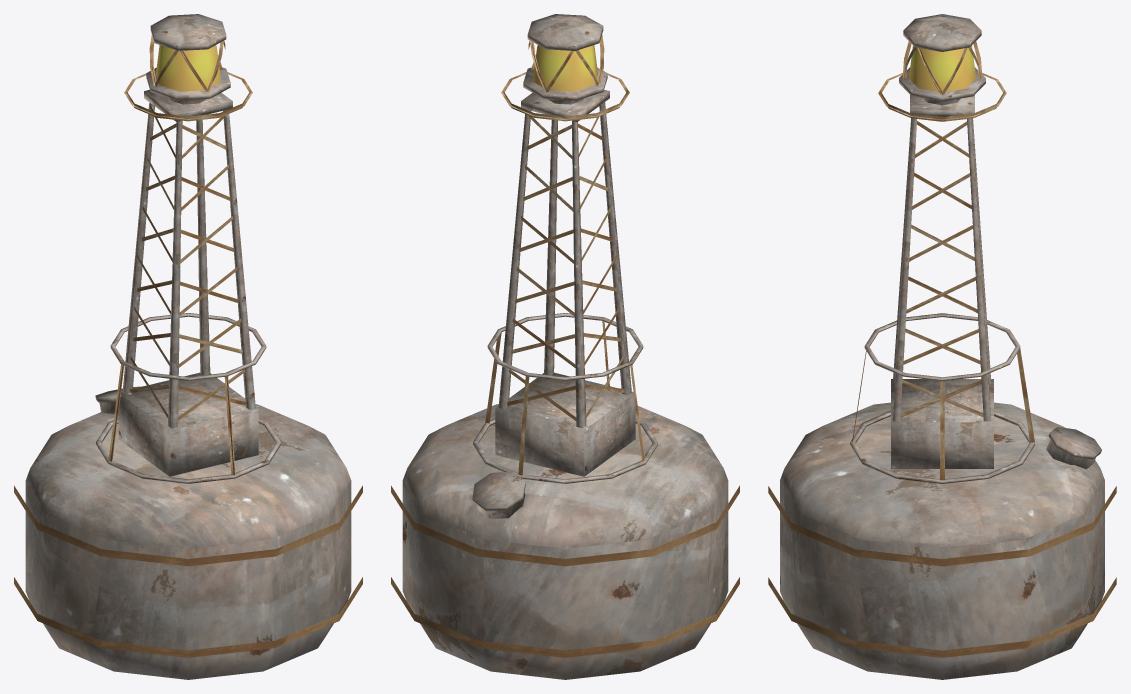
The model's file is buoy.glb.
3 renders of one model, left to right at view 1: azimuth 30°, elevation 25°; view 2: azimuth 150°, elevation 25°; view 3: azimuth 270°, elevation 25°, orthographic.
Visible parts, largest first — view 1: lighthouseRoof_diff.jpg__, metaldirt_diff.png__, gfxGlow_yellow_a.png__; view 2: lighthouseRoof_diff.jpg__, metaldirt_diff.png__, gfxGlow_yellow_a.png__; view 3: lighthouseRoof_diff.jpg__, metaldirt_diff.png__, gfxGlow_yellow_a.png__.
Boxes of the visible parts, x1=… form: lighthouseRoof_diff.jpg__: x1=25, y1=14, x2=351, y2=679; metaldirt_diff.png__: x1=14, y1=34, x2=362, y2=657; gfxGlow_yellow_a.png__: x1=156, y1=45, x2=220, y2=91; lighthouseRoof_diff.jpg__: x1=402, y1=14, x2=728, y2=679; metaldirt_diff.png__: x1=391, y1=34, x2=739, y2=657; gfxGlow_yellow_a.png__: x1=533, y1=45, x2=597, y2=91; lighthouseRoof_diff.jpg__: x1=780, y1=14, x2=1104, y2=679; metaldirt_diff.png__: x1=768, y1=41, x2=1116, y2=657; gfxGlow_yellow_a.png__: x1=908, y1=46, x2=976, y2=91.
Size of the model in its own units: 14.37 by 26.98 by 14.37.
Materials: 3 (3 with a texture image).
